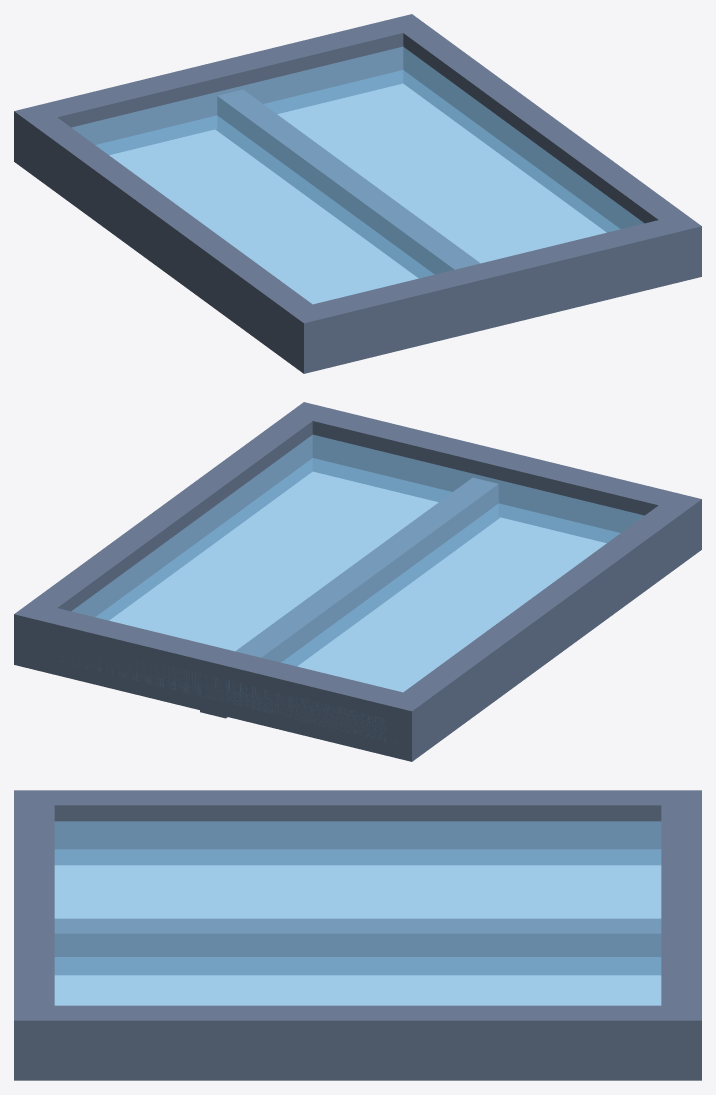
File: 07_window_double.glb
3 views of the same model, one above another, from view 1: azimuth 30°, elevation 25°; view 2: azimuth 150°, elevation 25°; view 3: azimuth 270°, elevation 25° (orthographic). The views are drawn at different scales.
Visible parts, largest first — view 1: part_1, part_5, part_6, part_2, part_3, part_4; view 2: part_1, part_6, part_5, part_2, part_3, part_4; view 3: part_1, part_3, part_2, part_4, part_5, part_6.
Part boxes in pixels (x1,y1,x2,y2): part_1: (72, 46, 644, 304); part_5: (286, 213, 699, 373); part_6: (14, 14, 427, 173); part_2: (20, 105, 329, 373); part_3: (387, 14, 701, 281); part_4: (216, 89, 480, 277); part_1: (61, 434, 643, 742); part_6: (14, 602, 429, 761); part_5: (289, 402, 701, 561); part_2: (386, 493, 701, 761); part_3: (14, 402, 328, 670); part_4: (200, 477, 499, 718); part_1: (54, 821, 661, 1005); part_3: (14, 1005, 701, 1080); part_2: (14, 790, 701, 864); part_4: (54, 918, 661, 974); part_5: (14, 790, 54, 1080); part_6: (661, 790, 701, 1080).
Size of the model in its own units: 2.14 by 0.27 by 2.7.
